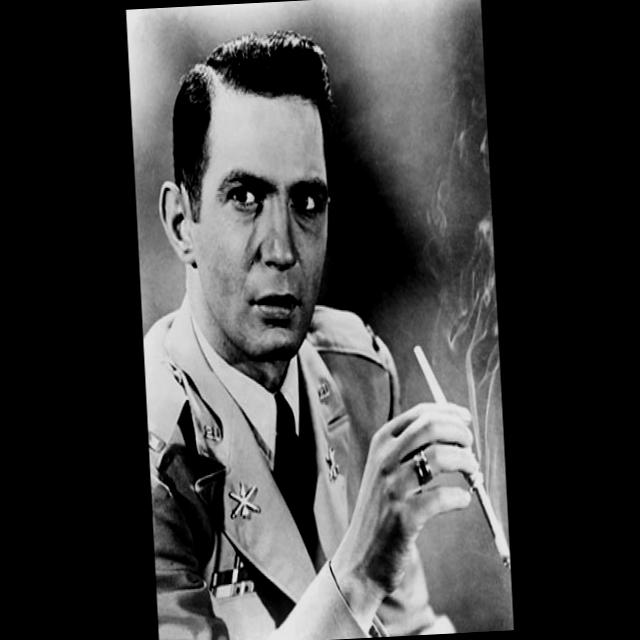smoke: (412, 343, 453, 405)
